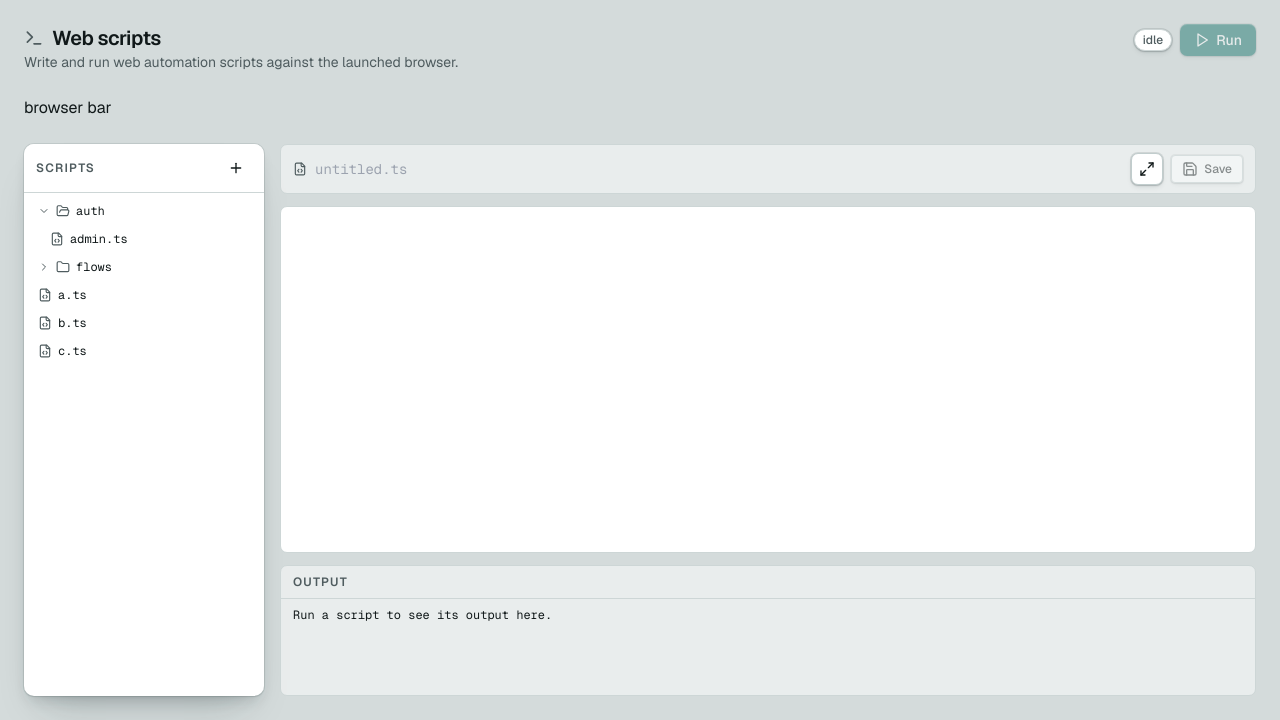
Test: CodeEditor — the wide view › folds the file tree and the panel above the grid, and Esc brings them back
This screenshot has width=1280, height=720.
Expected: the text "browser bar" is shown, [24, 97, 112, 118]
Click the button with test id "editor-focus-toggle" at (1147, 169), box [1131, 153, 1163, 185]
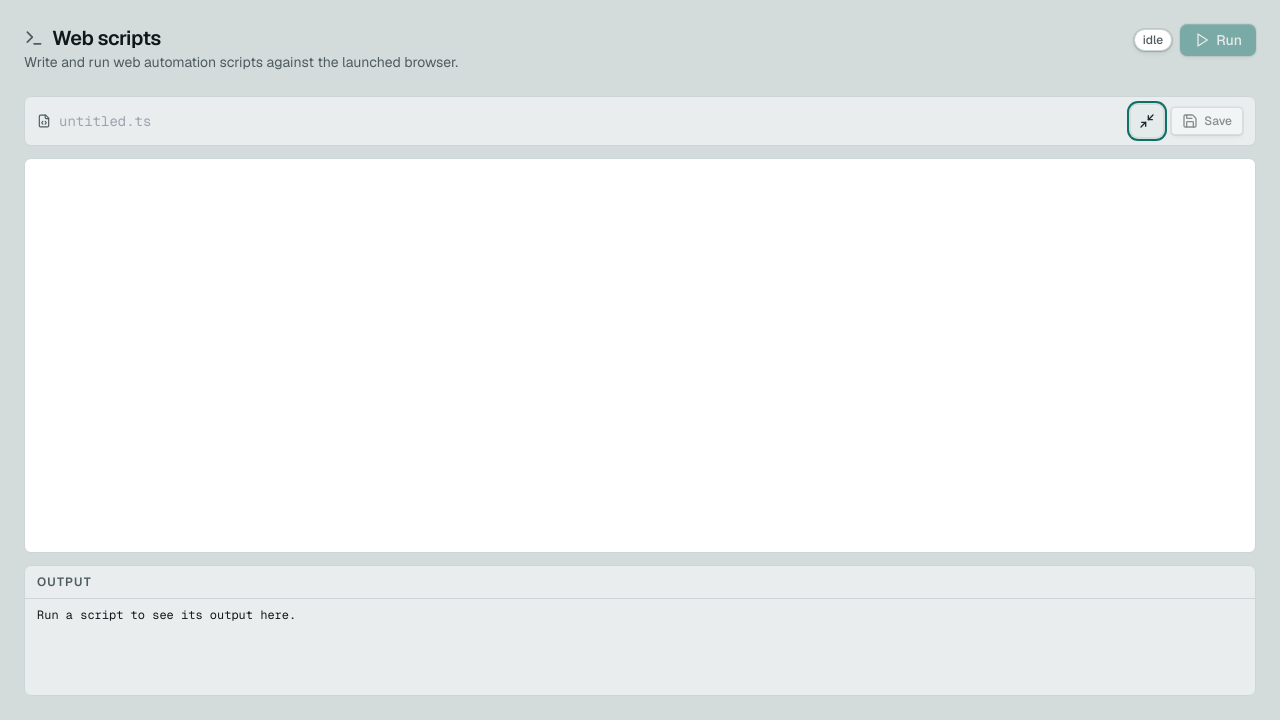
Now the text with test id "before-grid" is gone
Press Escape
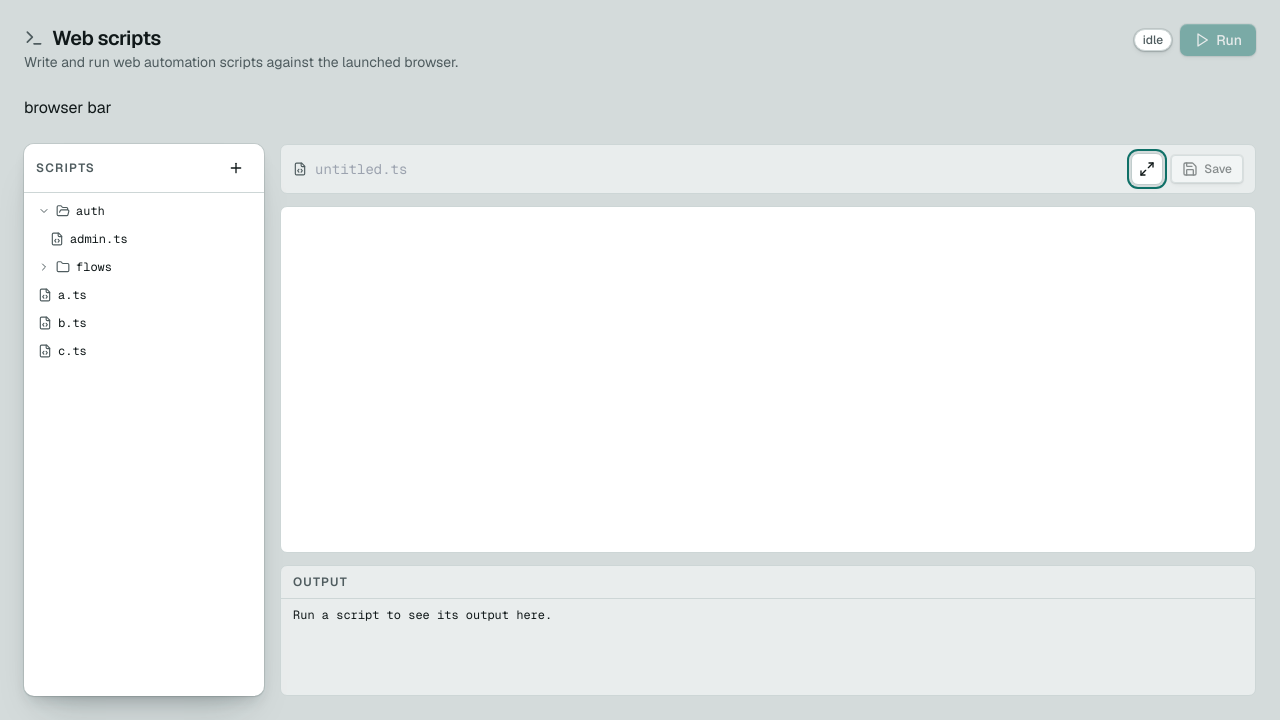
Now the text "browser bar" is shown, box [24, 97, 112, 118]
